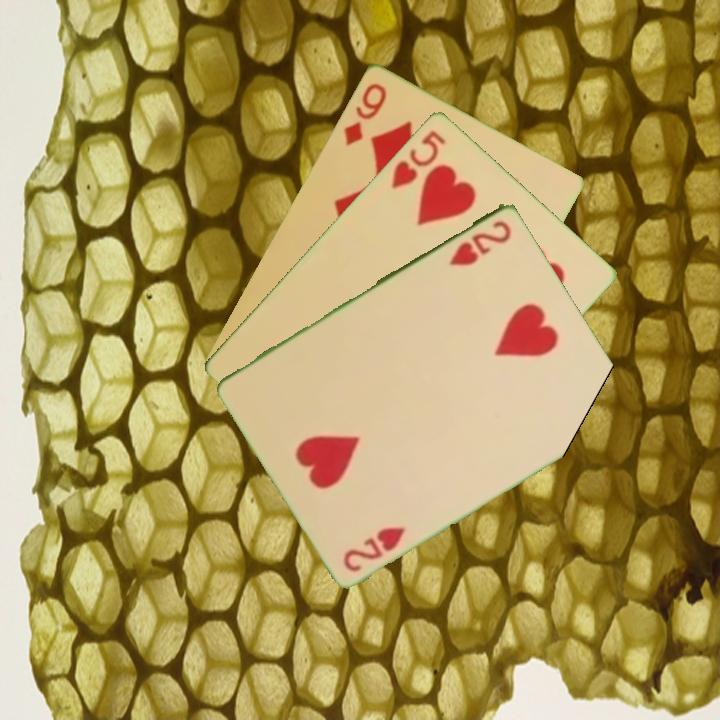2h: (445, 216, 515, 269), (339, 522, 409, 574)
5h: (387, 126, 449, 191)
9d: (340, 78, 390, 148)
